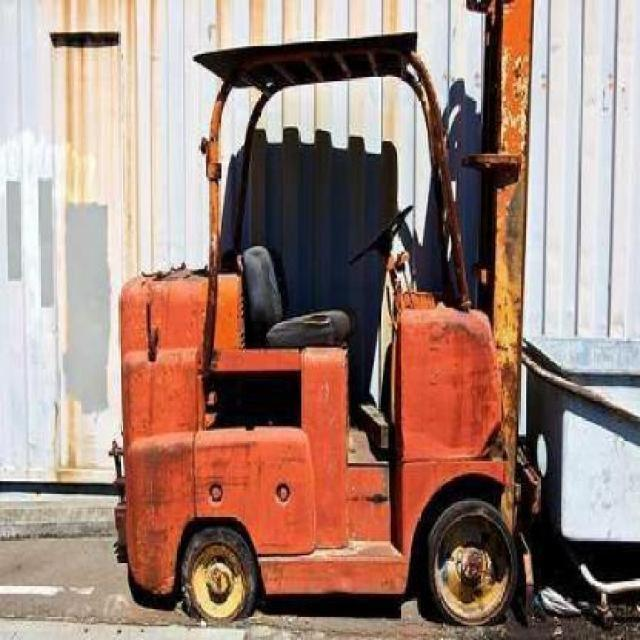forklift: (112, 28, 536, 630)
